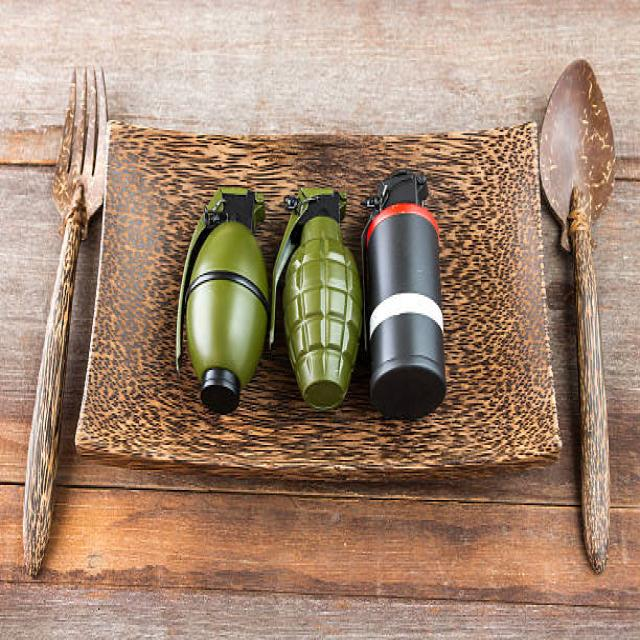grenade: (362, 170, 452, 424), (270, 186, 369, 410), (177, 184, 271, 412)
